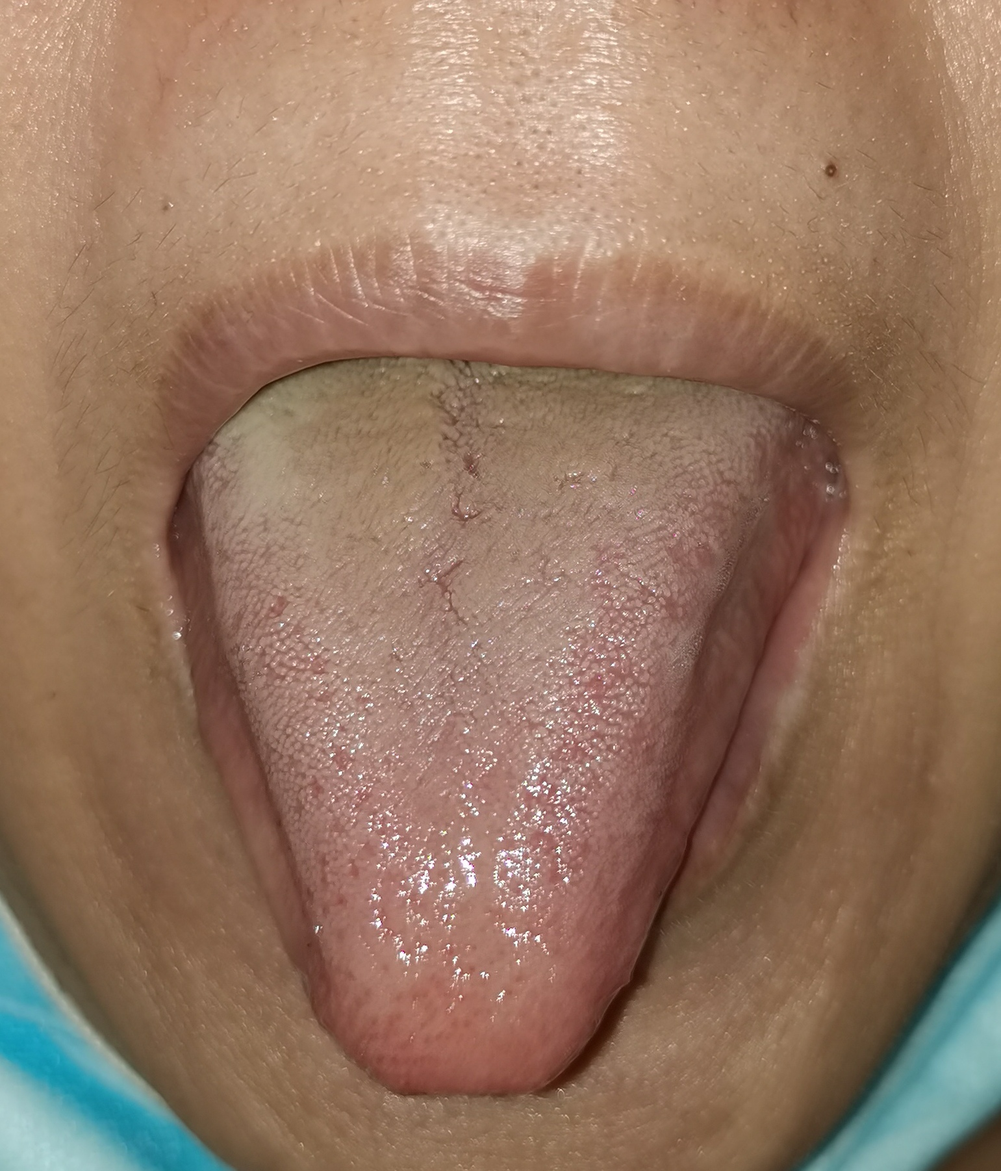baitaishe: (193, 355, 830, 1100)
shoushe: (194, 356, 831, 1101)
